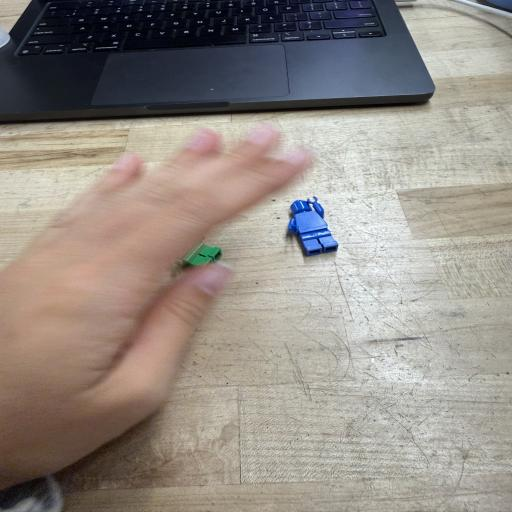blue-minifig: (288, 197, 338, 256)
green-minifig: (183, 243, 222, 266)
